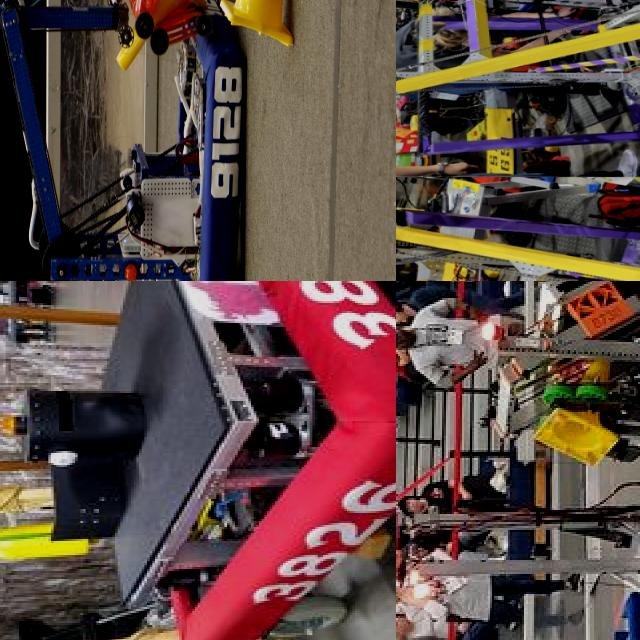FRC-Robots: (0, 281, 396, 640), (0, 0, 315, 281), (396, 417, 640, 630), (493, 281, 640, 493), (396, 0, 640, 120), (396, 176, 640, 281)
